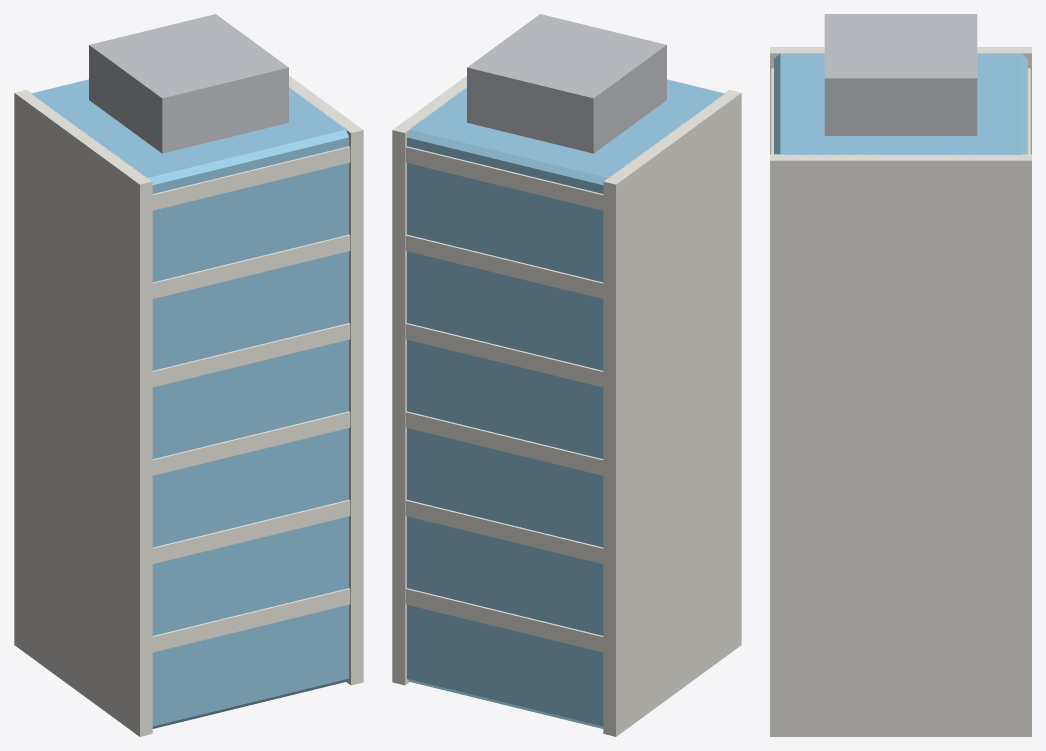
The model's file is office_tower.glb.
3 renders of one model, left to right at view 1: azimuth 30°, elevation 25°; view 2: azimuth 150°, elevation 25°; view 3: azimuth 270°, elevation 25°, orthographic. The views are drawn at different scales.
Parts seen in each view (by area): view 1: office_tower; view 2: office_tower; view 3: office_tower.
Boxes of the visible parts, <box> form: office_tower: <box>14,14,363,736</box>; office_tower: <box>392,14,741,736</box>; office_tower: <box>770,14,1031,736</box>.
Bounding box in the file's own units: 2.12 × 5.5 × 2.06.
Materials: 1 (1 with a texture image).
